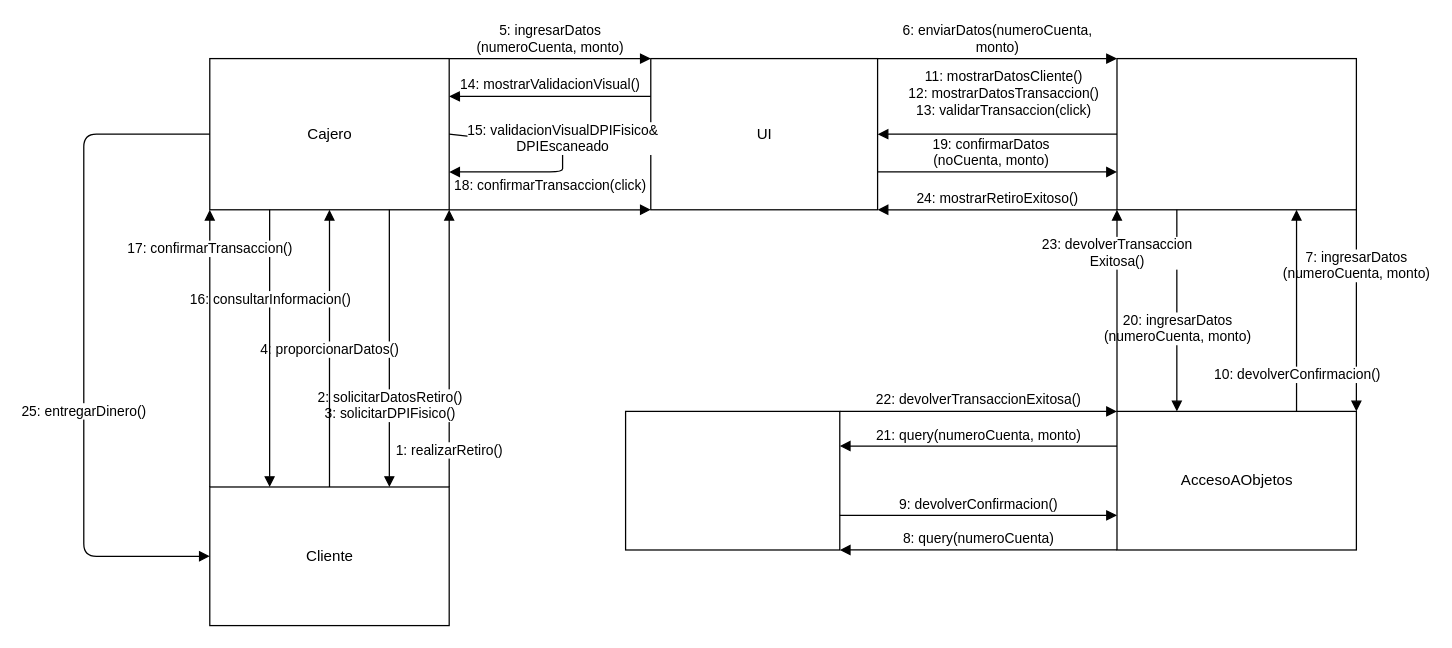
This 1452x648 diagram has some shape labels left out. Here are the shapes that lost their labels. From the top down, the centre of each, then its label:
At point (1236, 133): "Controlador".
At point (732, 480): "Base de Datos".
